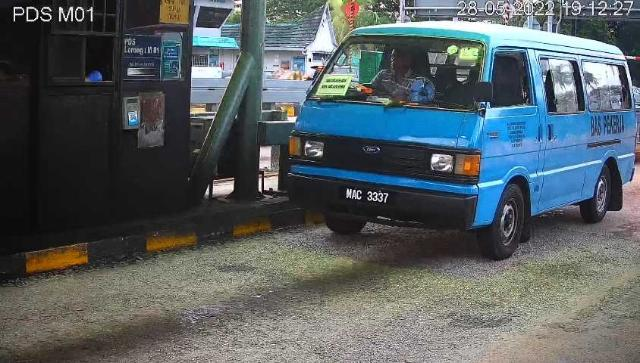License_Plate: (340, 186, 398, 211)
van: (288, 23, 638, 261)
